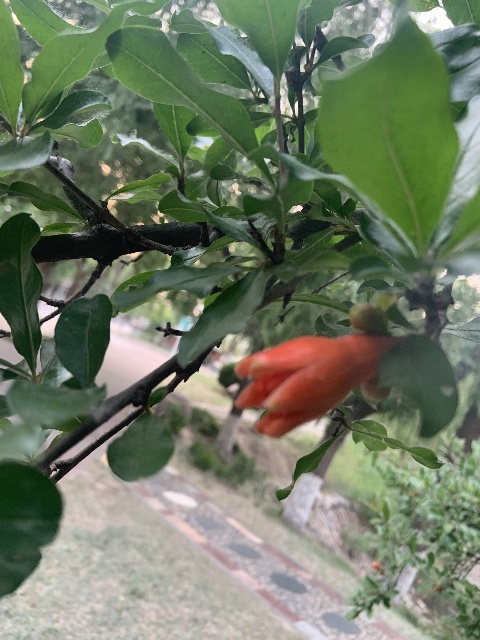flower: (233, 329, 392, 437)
